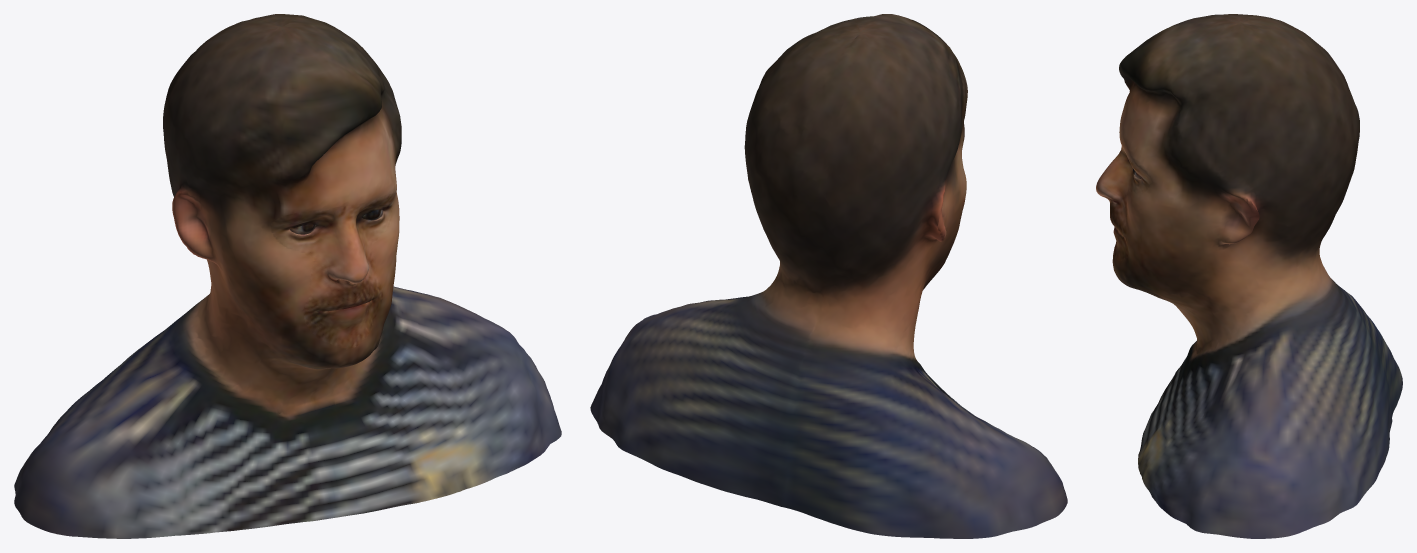
File: messi.glb
3 renders of one model, left to right at view 1: azimuth 30°, elevation 25°; view 2: azimuth 150°, elevation 25°; view 3: azimuth 270°, elevation 25°, orthographic. The views are drawn at different scales.
Parts seen in each view (by area): view 1: Object_2; view 2: Object_2; view 3: Object_2.
Boxes of the visible parts, left/top/right/bottom form: Object_2: left=14, top=14, right=561, bottom=538; Object_2: left=590, top=14, right=1067, bottom=538; Object_2: left=1096, top=14, right=1402, bottom=538.
Bounding box in the file's own units: 0.4552 × 0.3891 × 0.2702.
Materials: 1 (1 with a texture image).
